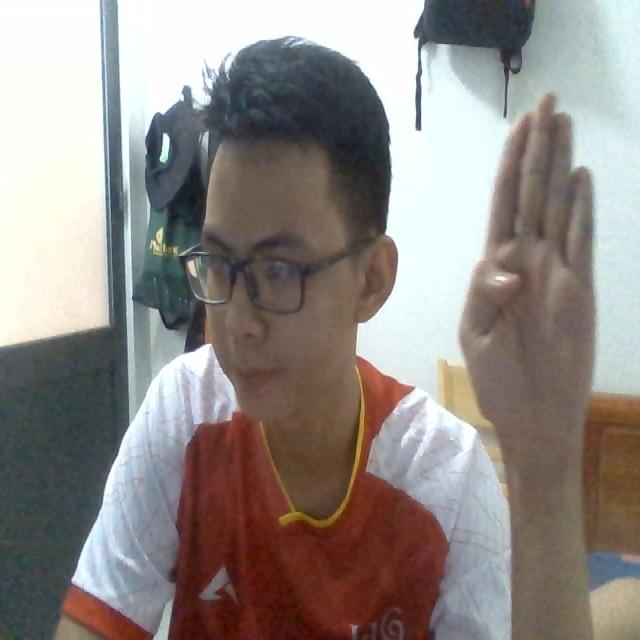B: (454, 91, 619, 529)
